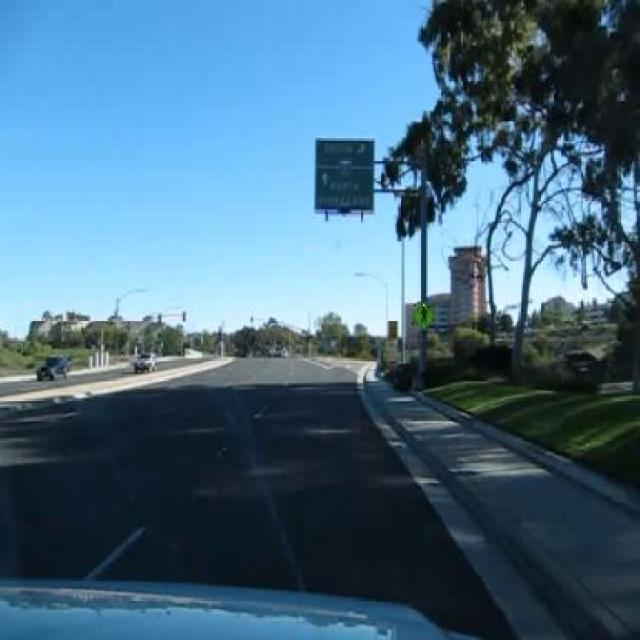pedestrianCrossing: (411, 298, 437, 332)
